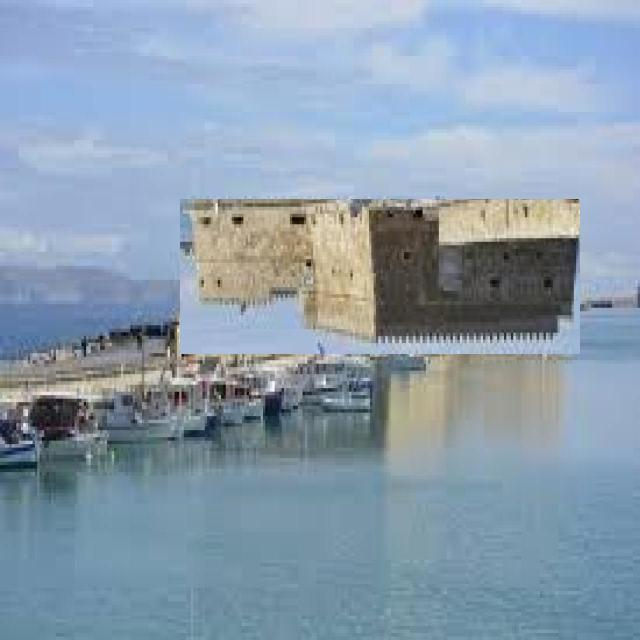Kules: (181, 200, 581, 355)
